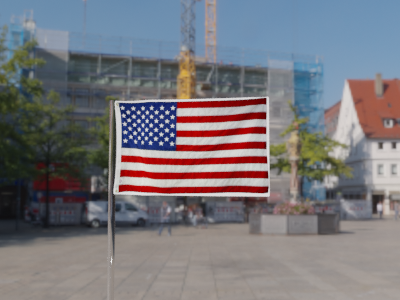America flag: (113, 100, 272, 200)
